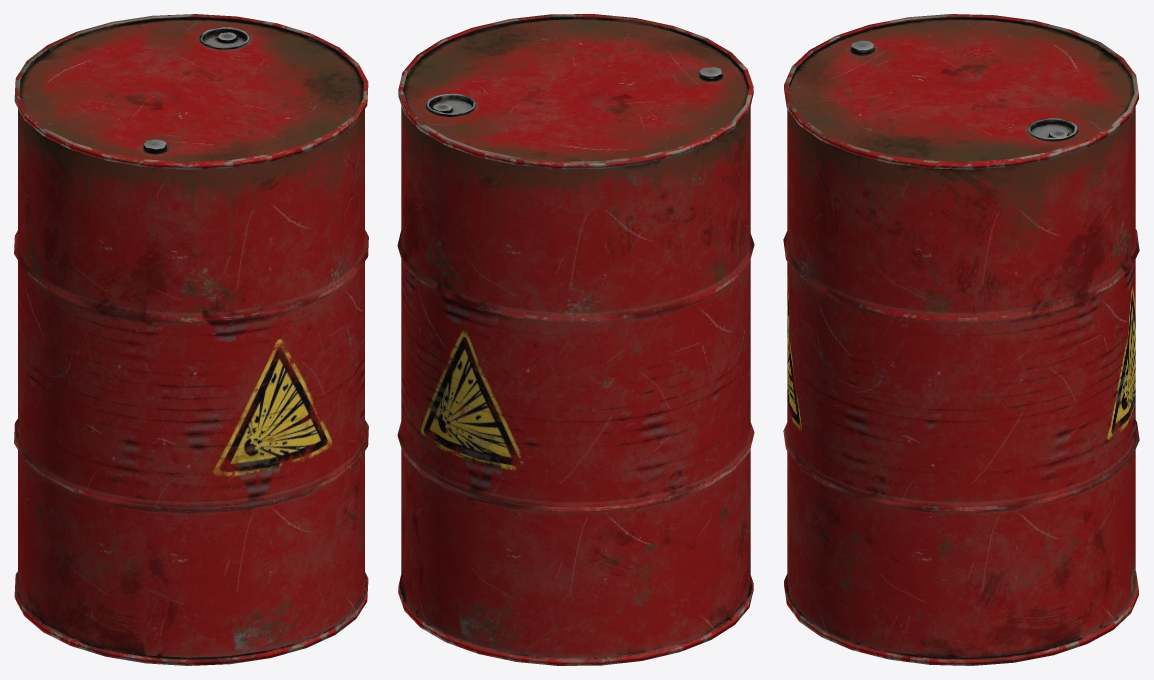
File: Barrel_01.glb
3 renders of one model, left to right at view 1: azimuth 30°, elevation 25°; view 2: azimuth 150°, elevation 25°; view 3: azimuth 270°, elevation 25°, orthographic.
Parts seen in each view (by area): view 1: Barrel_01; view 2: Barrel_01; view 3: Barrel_01.
Boxes of the visible parts, x1,y1,x2,y2 form: Barrel_01: (14, 14, 368, 665); Barrel_01: (397, 14, 754, 665); Barrel_01: (783, 14, 1139, 665).
Size of the model in its own units: 0.5627 by 0.8789 by 0.5627.
Materials: 1 (1 with a texture image).
